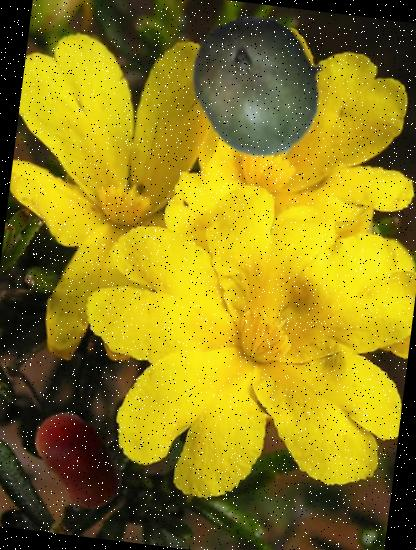Mango: (181, 5, 340, 165)
Nectarine: (20, 402, 138, 520)
